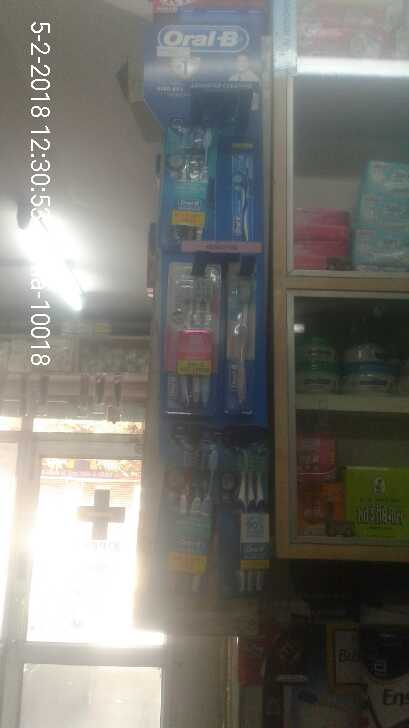oralb: (227, 429, 282, 607), (160, 430, 213, 611), (164, 259, 217, 411), (168, 122, 213, 252), (226, 273, 262, 409), (228, 134, 264, 233)
